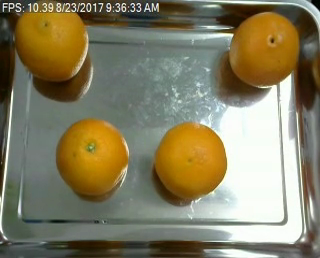Orange: (15, 1, 89, 83), (54, 116, 129, 196), (153, 120, 228, 200), (228, 9, 299, 88)
